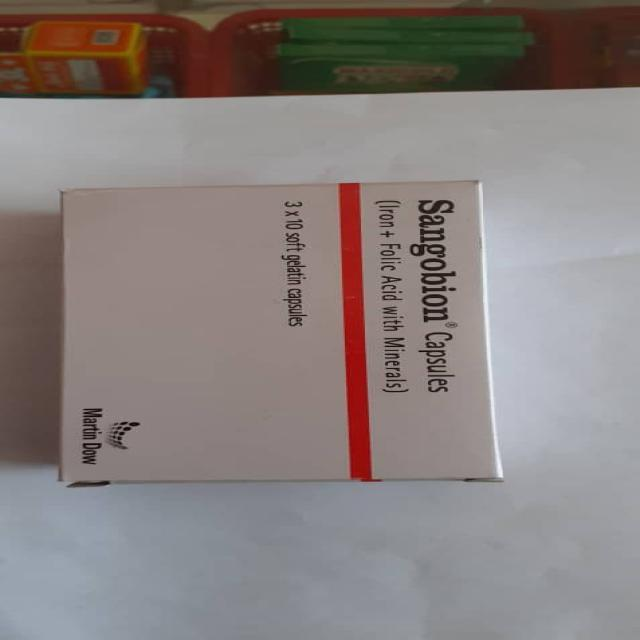drug-name: (410, 197, 464, 331)
